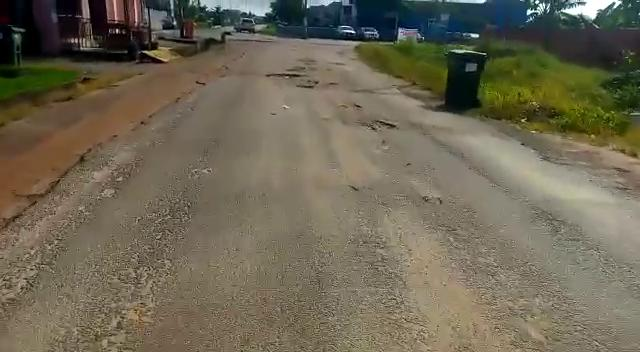pothole: (358, 118, 402, 132), (295, 79, 328, 89), (266, 71, 304, 78)
